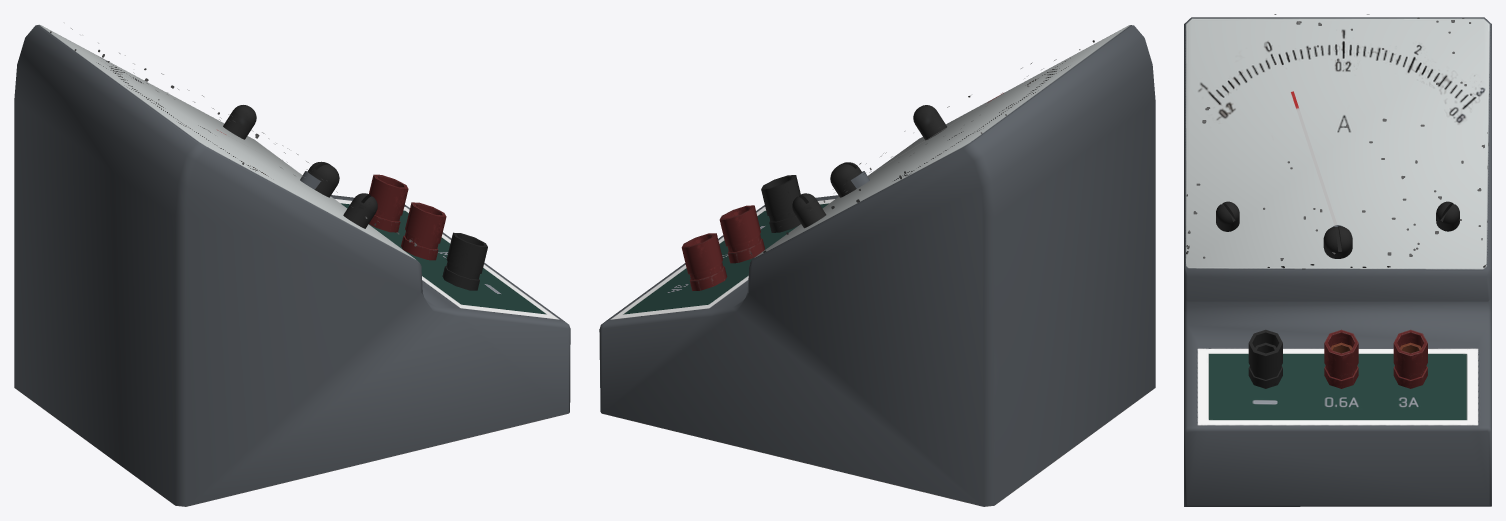
File: voltmeter.glb
The picture shows the model from 3 angles, left to right: view 1: azimuth 30°, elevation 25°; view 2: azimuth 150°, elevation 25°; view 3: azimuth 270°, elevation 25°; orthographic projection. The views are drawn at different scales.
Visible parts, largest first — view 1: 1_low, 6_low, 9_low, 11_low, 10_low; view 2: 1_low, 6_low, 9_low, 11_low, 10_low; view 3: 1_low, 6_low, 9_low, 11_low, 10_low, 3_low, 5_low.
Part boxes in pixels (box(x1,y1,x2,y2)): 1_low: box(14, 24, 570, 506); 6_low: box(369, 174, 446, 260); 9_low: box(442, 232, 487, 290); 11_low: box(223, 105, 377, 228); 10_low: box(307, 161, 339, 197); 1_low: box(599, 25, 1155, 506); 6_low: box(681, 205, 764, 290); 9_low: box(761, 175, 800, 232); 11_low: box(792, 105, 946, 228); 10_low: box(830, 162, 861, 197); 1_low: box(1184, 17, 1491, 506); 6_low: box(1324, 329, 1427, 388); 9_low: box(1248, 329, 1282, 388); 11_low: box(1216, 201, 1459, 231); 10_low: box(1323, 226, 1352, 258); 3_low: box(1186, 14, 1489, 269); 5_low: box(1291, 91, 1337, 225).
Size of the model in its own units: 2.69 by 2.4 by 2.
Materials: 2 (2 with a texture image).
